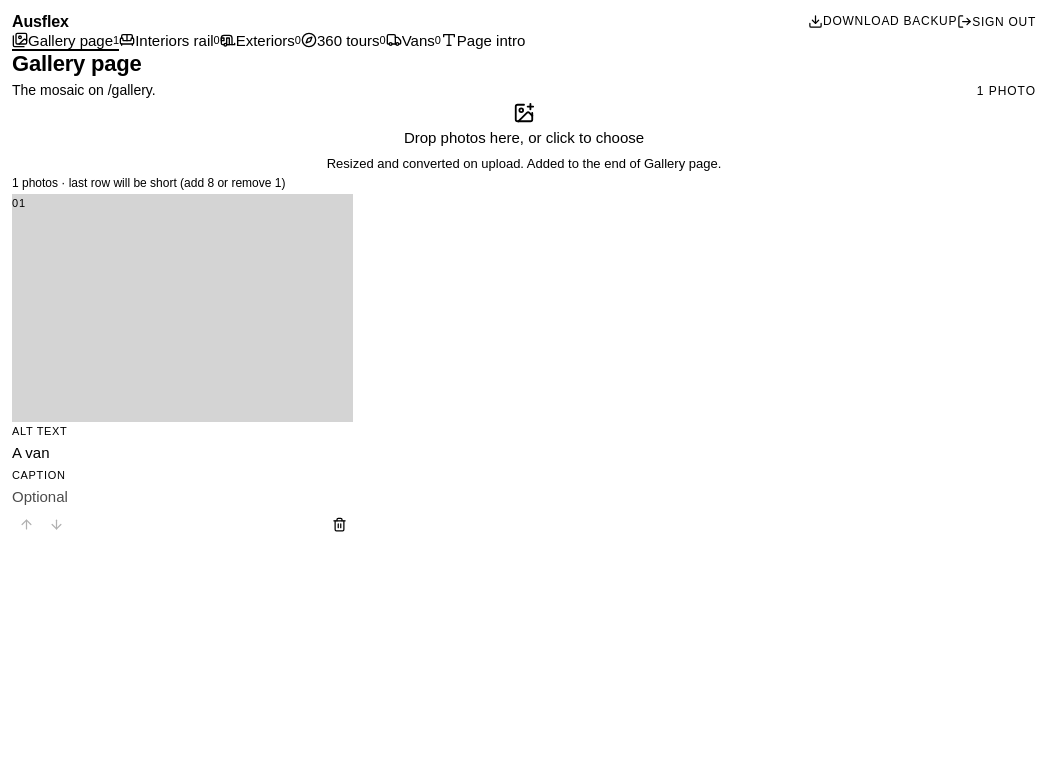
Test case: AdminPage › requires a second click to delete
The width and height of the screenshot is (1048, 780).
Expected: the field showing "A van" is shown, [12,444,353,461]
What coordinates should you click on to do the following:
click the button named "delete photo 1"
I would click on:
 (339, 525)
Its box is [325,511,353,539].
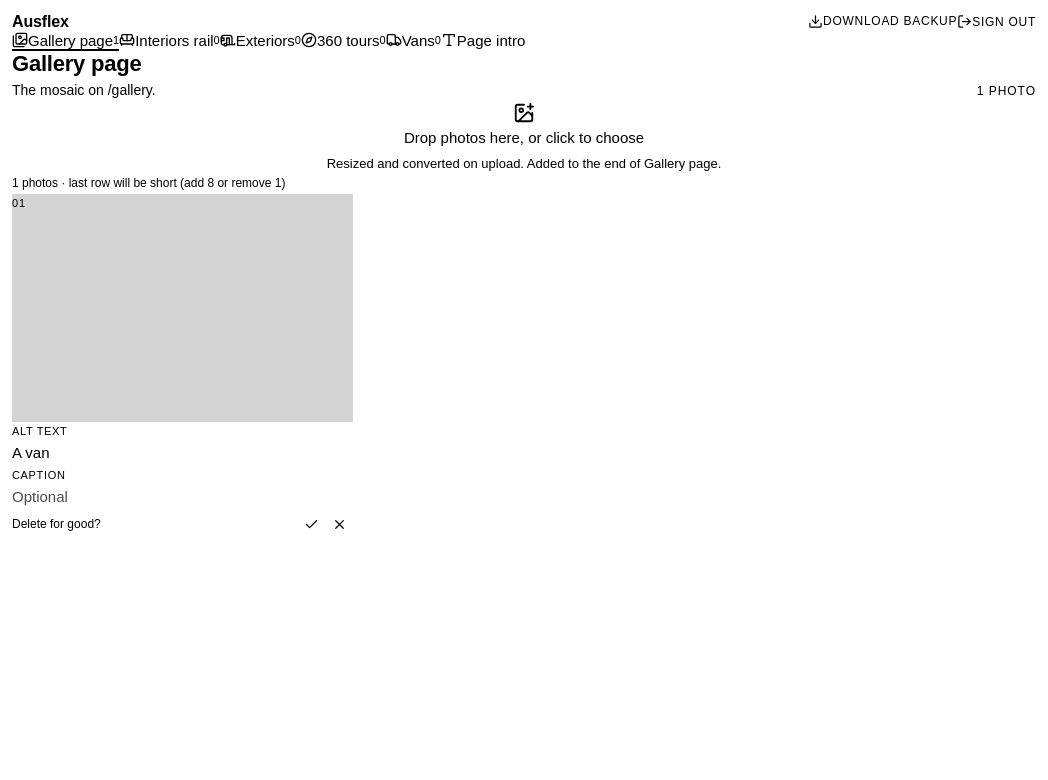
Expected: the button named "confirm delete" is shown, [297,511,325,539]
